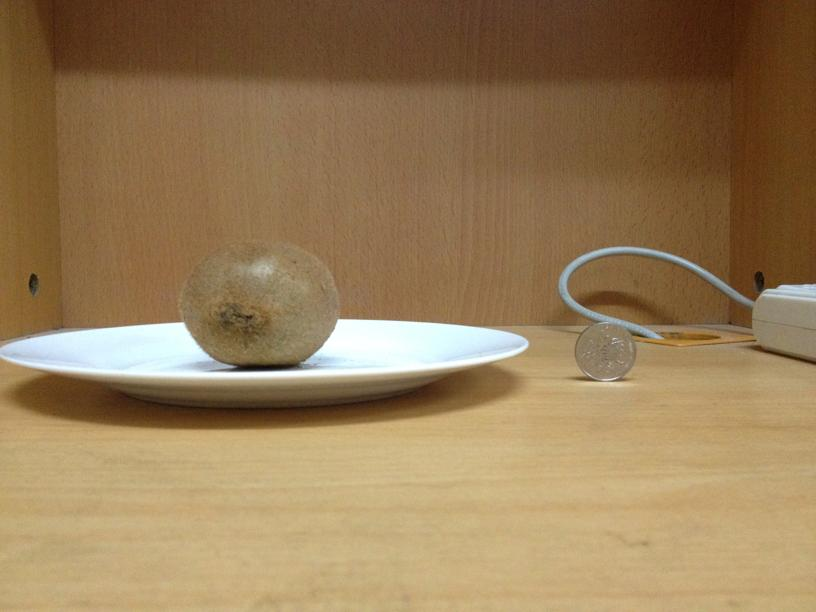coin: (572, 322, 636, 379)
qiwi: (177, 245, 344, 364)
